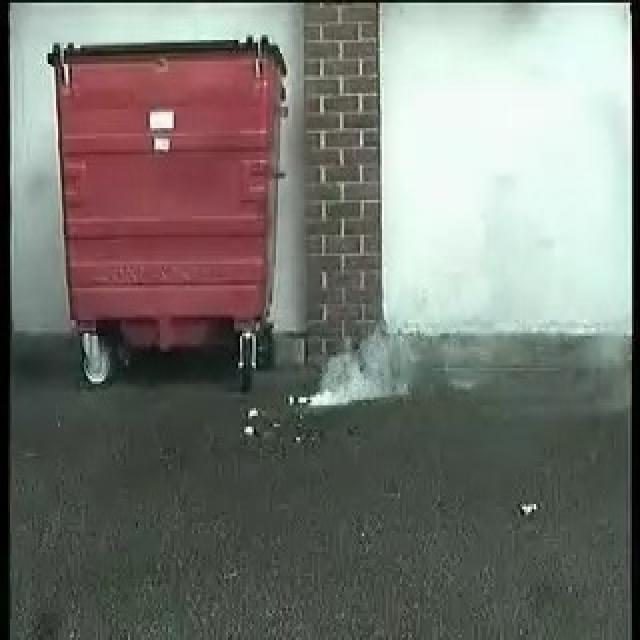smoke: (299, 328, 416, 410)
